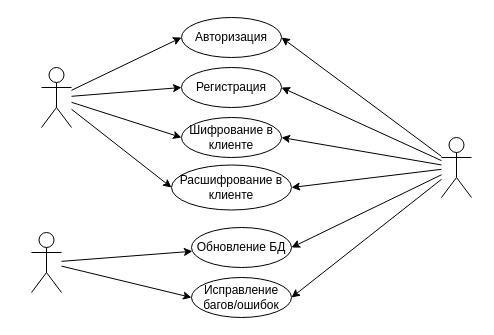
Image size: 494x335. Some labels were removed from this diagram. Here are the shapes that lost their labels. From the top down, the box of each, then its label:
(40, 66, 72, 128): Пользователь
(440, 136, 472, 198): Сервер
(30, 232, 62, 292): Админ
